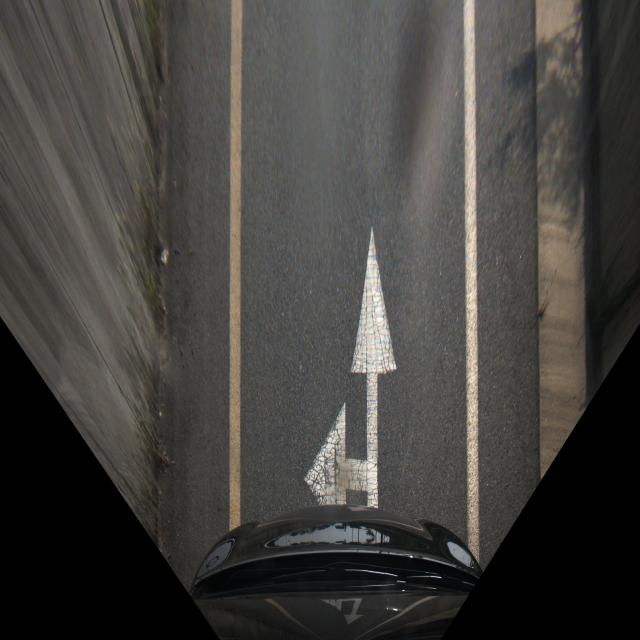forward_left: (230, 210, 481, 522)
